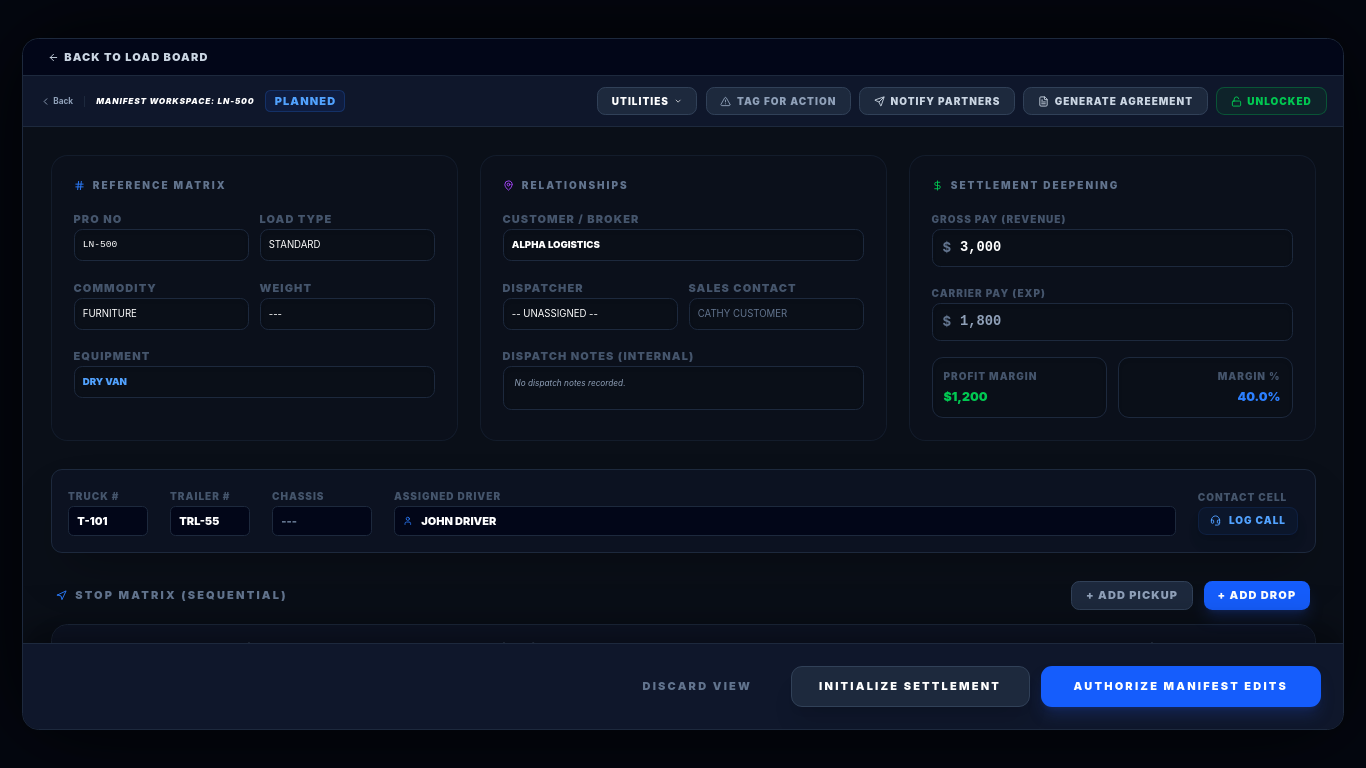
LoadDetailView notify partners (STORY-004 Phase 4) › opens an inline modal with broker, driver, and customerContact checkboxes when clicked
The image size is (1366, 768).
Click the button "Notify Partners" at (937, 101), box [859, 87, 1015, 115]
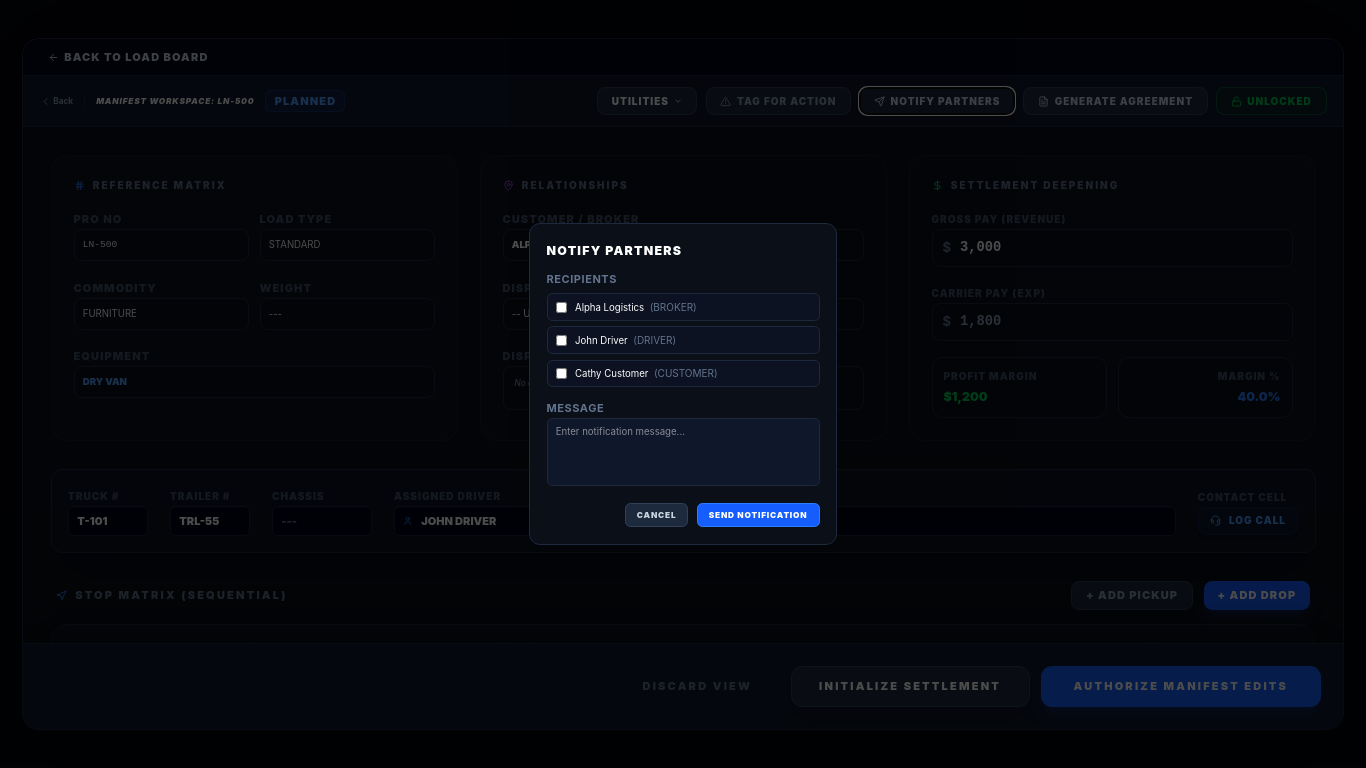
Check: the dialog "Notify Partners" is shown
Check: the number of checkboxes is 3, box [556, 302, 567, 313]; [556, 335, 567, 346]; [556, 368, 567, 379]
Check: the checkbox labelled "Alpha Logistics(broker)" is shown, box [556, 302, 567, 313]
